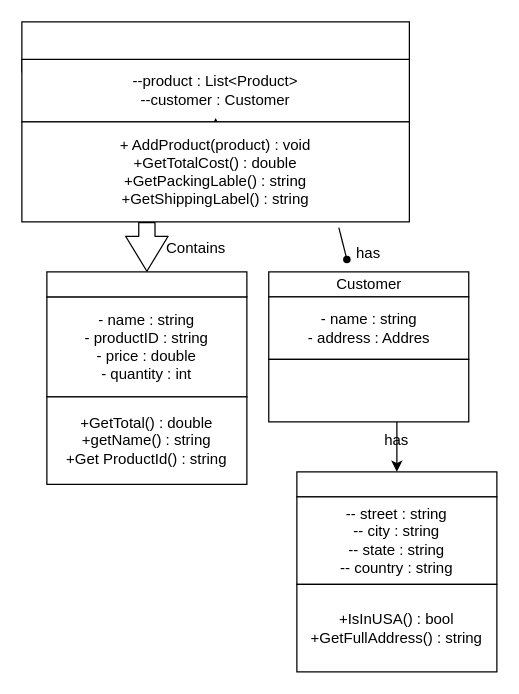
Image size: 519x694. Some labels were removed from this diagram. The shapes that lost their labels are listed below. From the top down, each one's centre as x and y in pixels, then its label:
the point at 215,46: Order
the point at 146,284: Product
the point at 368,390: +IsInUSA() : bool +GetName() : string +GetAddress(): sting
the point at 396,484: Address
